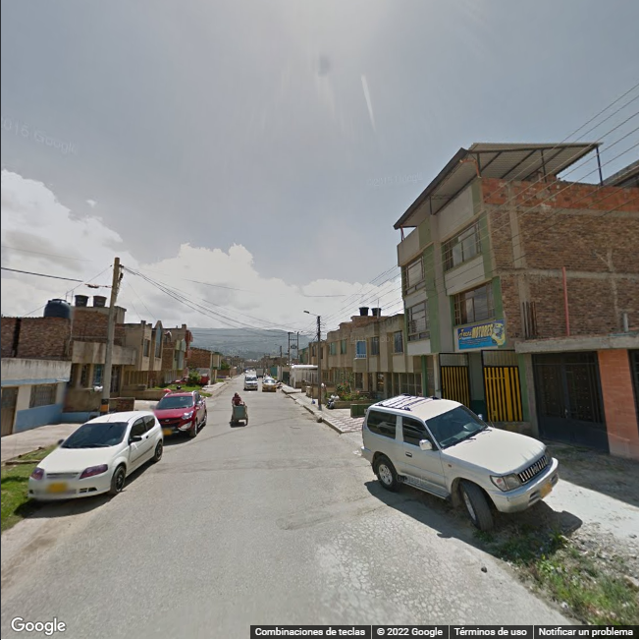D20: (327, 516, 463, 620)
